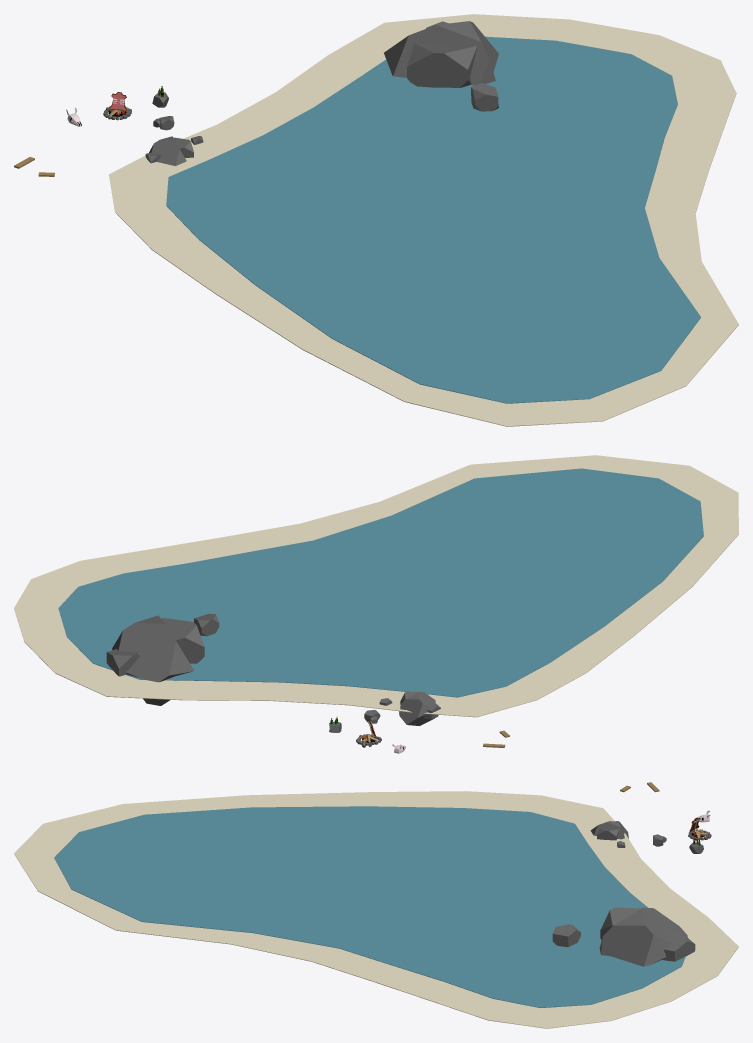
Rendered from shack.glb.
3 views of the same model, one above another, from view 1: azimuth 30°, elevation 25°; view 2: azimuth 150°, elevation 25°; view 3: azimuth 270°, elevation 25° (orthographic). The views are drawn at different scales.
Parts seen in each view (by area): view 1: lagoon, shore, Cube.008; view 2: lagoon, shore, Cube.008; view 3: lagoon, shore, Cube.008.
Part boxes in pixels (box(x1,y1,x2,y2)): lagoon: box(166, 36, 700, 403); shore: box(109, 14, 738, 426); Cube.008: box(145, 21, 498, 165); lagoon: box(58, 468, 703, 697); shore: box(14, 455, 738, 717); Cube.008: box(106, 613, 440, 725); lagoon: box(54, 806, 685, 1007); shore: box(14, 791, 738, 1028); Cube.008: box(552, 821, 695, 966).
Bounding box in the file's own units: 41.8 × 6.23 × 52.34.
